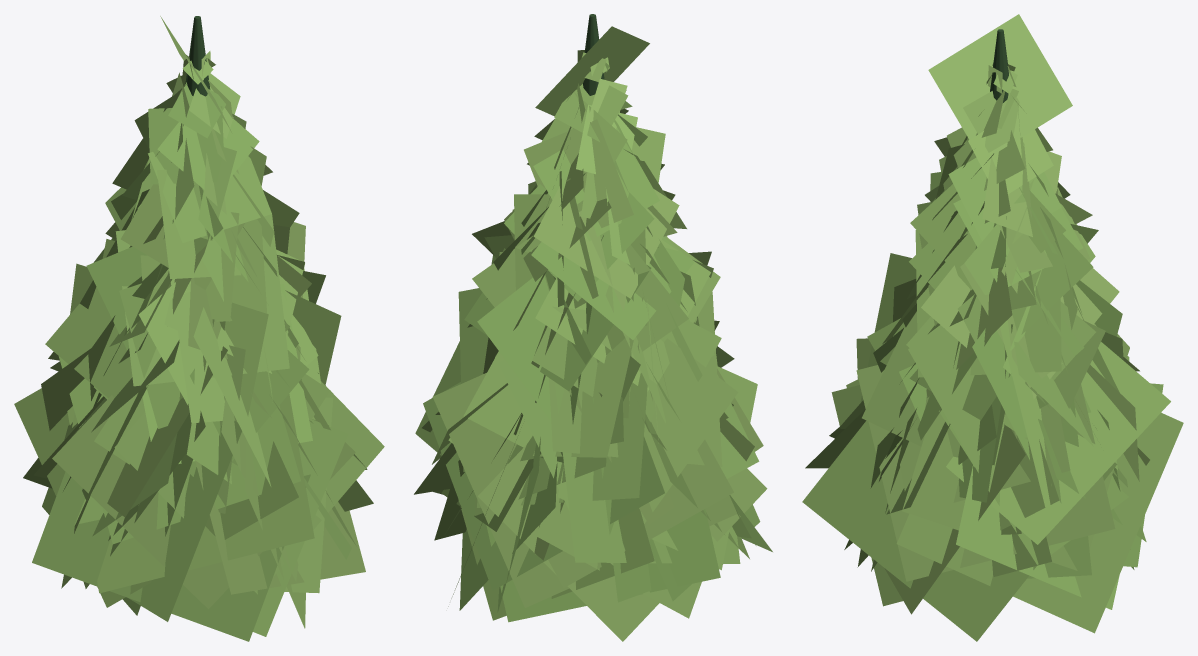
Rendered from tree_pine_0.glb.
3 renders of one model, left to right at view 1: azimuth 30°, elevation 25°; view 2: azimuth 150°, elevation 25°; view 3: azimuth 270°, elevation 25°, orthographic. The views are drawn at different scales.
Parts seen in each view (by area): view 1: Pine; view 2: Pine; view 3: Pine.
Boxes of the visible parts, left/top/right/bottom form: Pine: left=14, top=16, right=384, bottom=641; Pine: left=414, top=14, right=772, bottom=641; Pine: left=802, top=14, right=1183, bottom=641.
Bounding box in the file's own units: 5.67 × 9.76 × 6.02.
